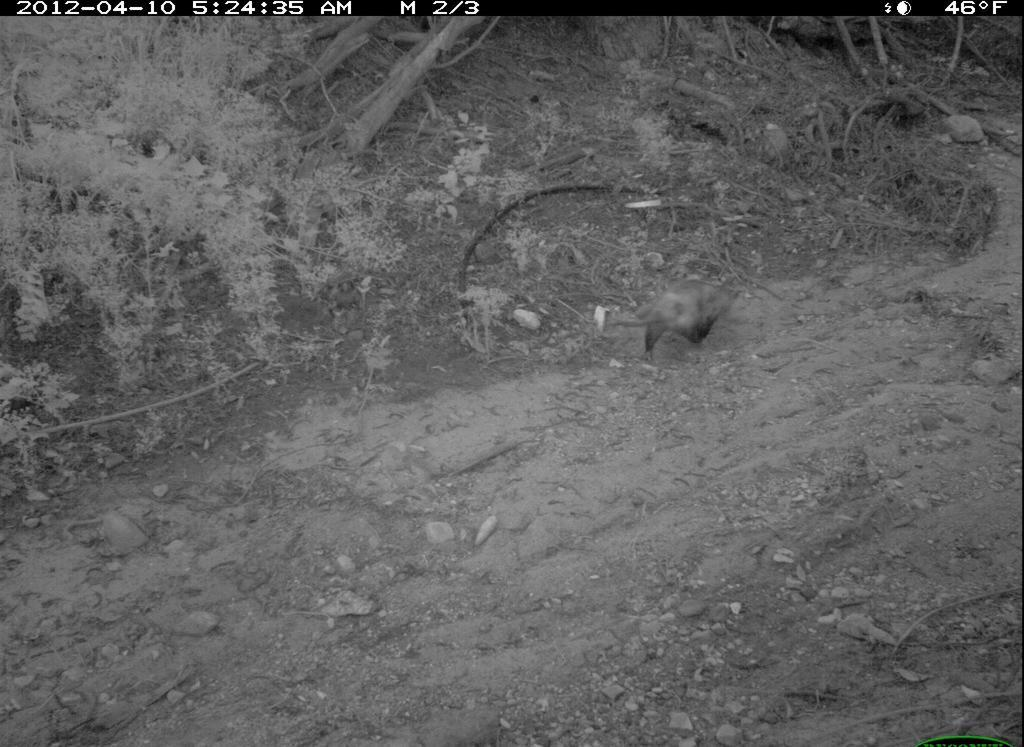opossum: (593, 280, 744, 373)
